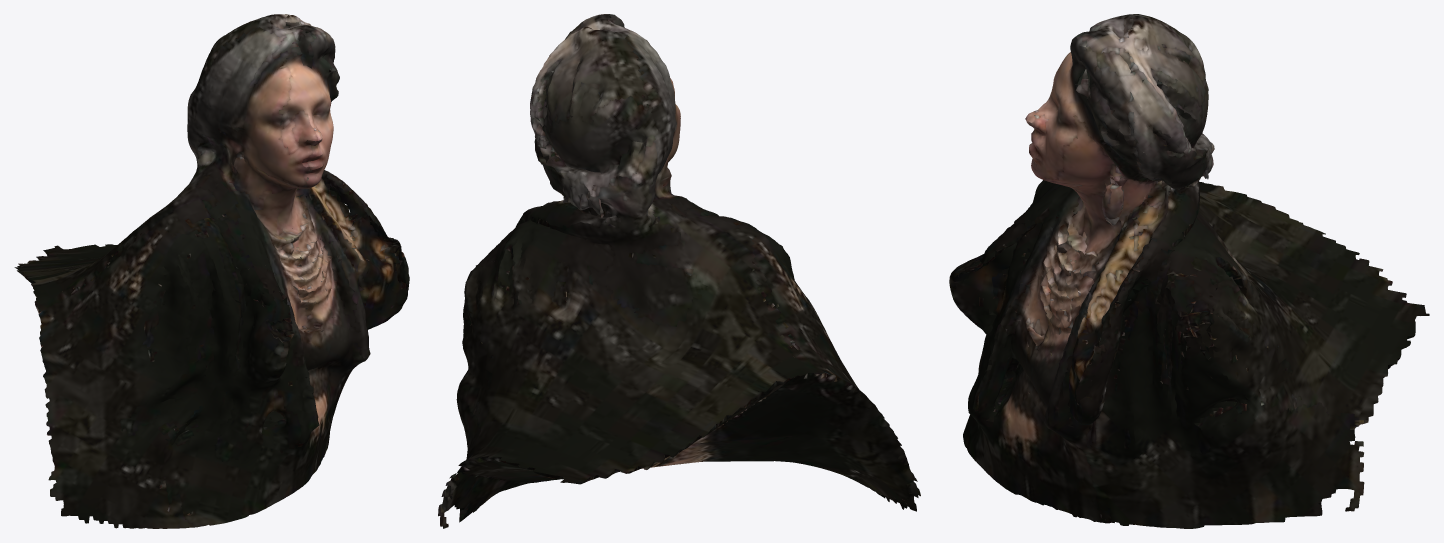
The model's file is Spirina.glb.
3 renders of one model, left to right at view 1: azimuth 30°, elevation 25°; view 2: azimuth 150°, elevation 25°; view 3: azimuth 270°, elevation 25°, orthographic. The views are drawn at different scales.
Visible parts, largest first — view 1: obj.001; view 2: obj.001; view 3: obj.001.
Part boxes in pixels (bbox=[...]): obj.001: bbox=[14, 14, 409, 528]; obj.001: bbox=[438, 14, 920, 528]; obj.001: bbox=[949, 14, 1429, 528].
Bounding box in the file's own units: 4.78 × 5.23 × 4.67.
Materials: 1 (1 with a texture image).
